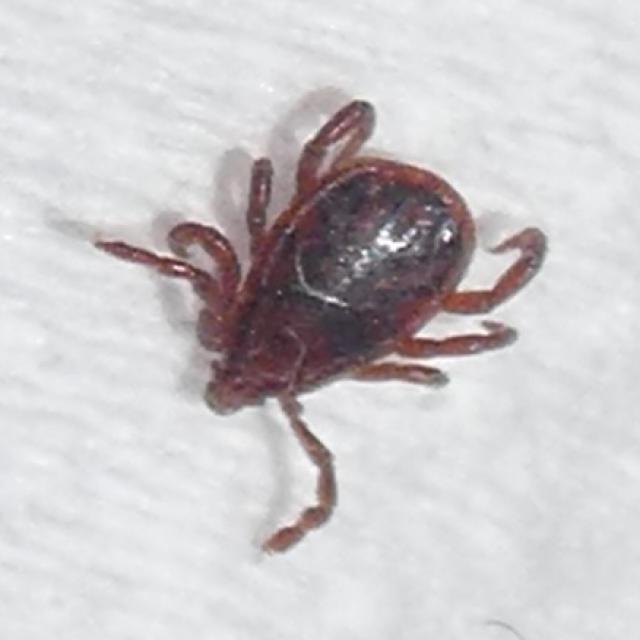Rhipicephalus Sanguineus-M: (92, 98, 548, 555)
